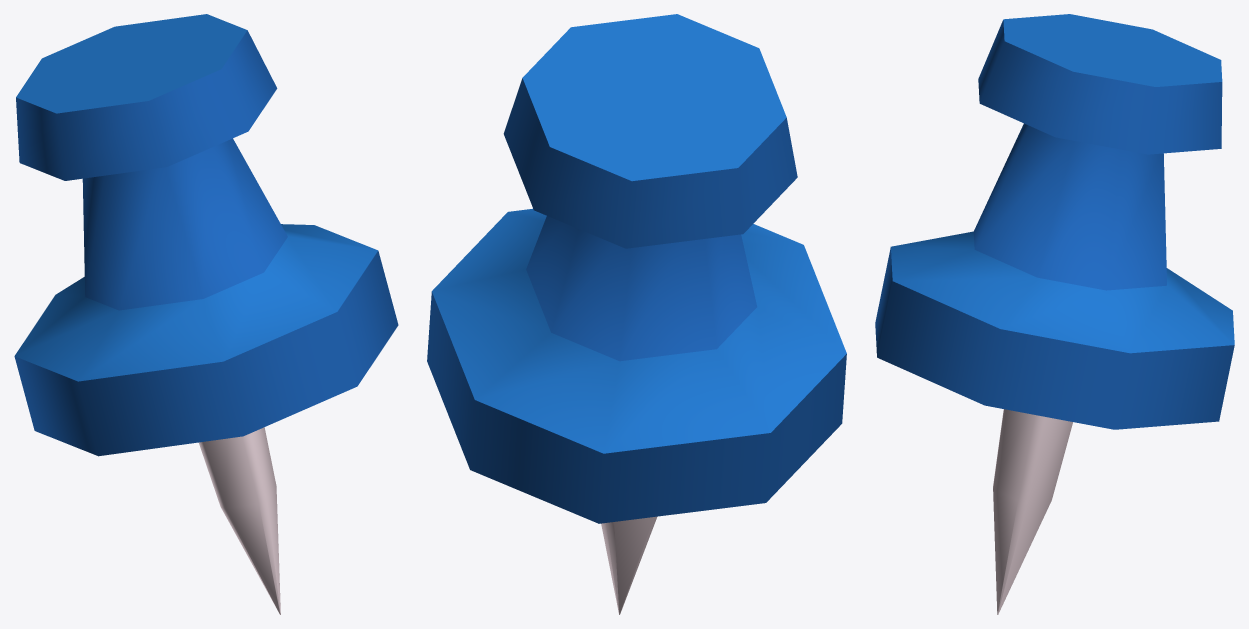
The picture shows the model from 3 angles, left to right: view 1: azimuth 30°, elevation 25°; view 2: azimuth 150°, elevation 25°; view 3: azimuth 270°, elevation 25°; orthographic projection. The views are drawn at different scales.
Visible parts, largest first — view 1: Model; view 2: Model; view 3: Model.
Boxes of the visible parts, left/top/right/bottom form: Model: left=14, top=14, right=398, bottom=614; Model: left=427, top=14, right=846, bottom=614; Model: left=875, top=14, right=1234, bottom=614.
Size of the model in its own units: 2.7 by 4.53 by 2.7.
